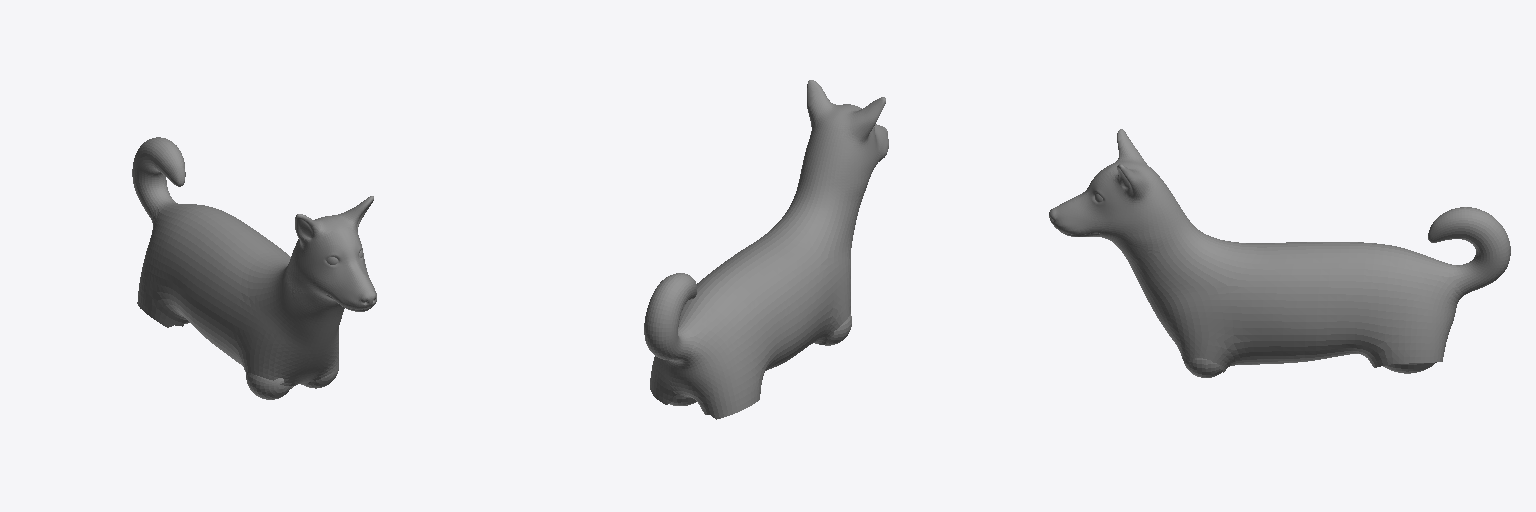
File: PerroTorso.obj
The picture shows the model from 3 angles: view 1: azimuth 30°, elevation 25°; view 2: azimuth 150°, elevation 25°; view 3: azimuth 270°, elevation 25°; orthographic projection.
Visible parts, largest first — view 1: 13466_Canaan_Dog_v1_L3; view 2: 13466_Canaan_Dog_v1_L3; view 3: 13466_Canaan_Dog_v1_L3.
Boxes of the visible parts, <box> form: 13466_Canaan_Dog_v1_L3: <box>132,137,376,399</box>; 13466_Canaan_Dog_v1_L3: <box>644,80,888,419</box>; 13466_Canaan_Dog_v1_L3: <box>1049,129,1510,377</box>.
Bounding box in the file's own units: 10.69 × 22.78 × 43.75.